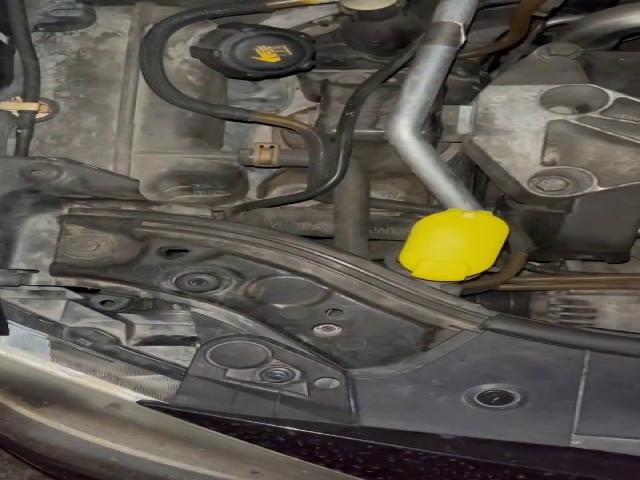antifreeze_tank: (33, 5, 247, 204), (163, 21, 314, 104)
